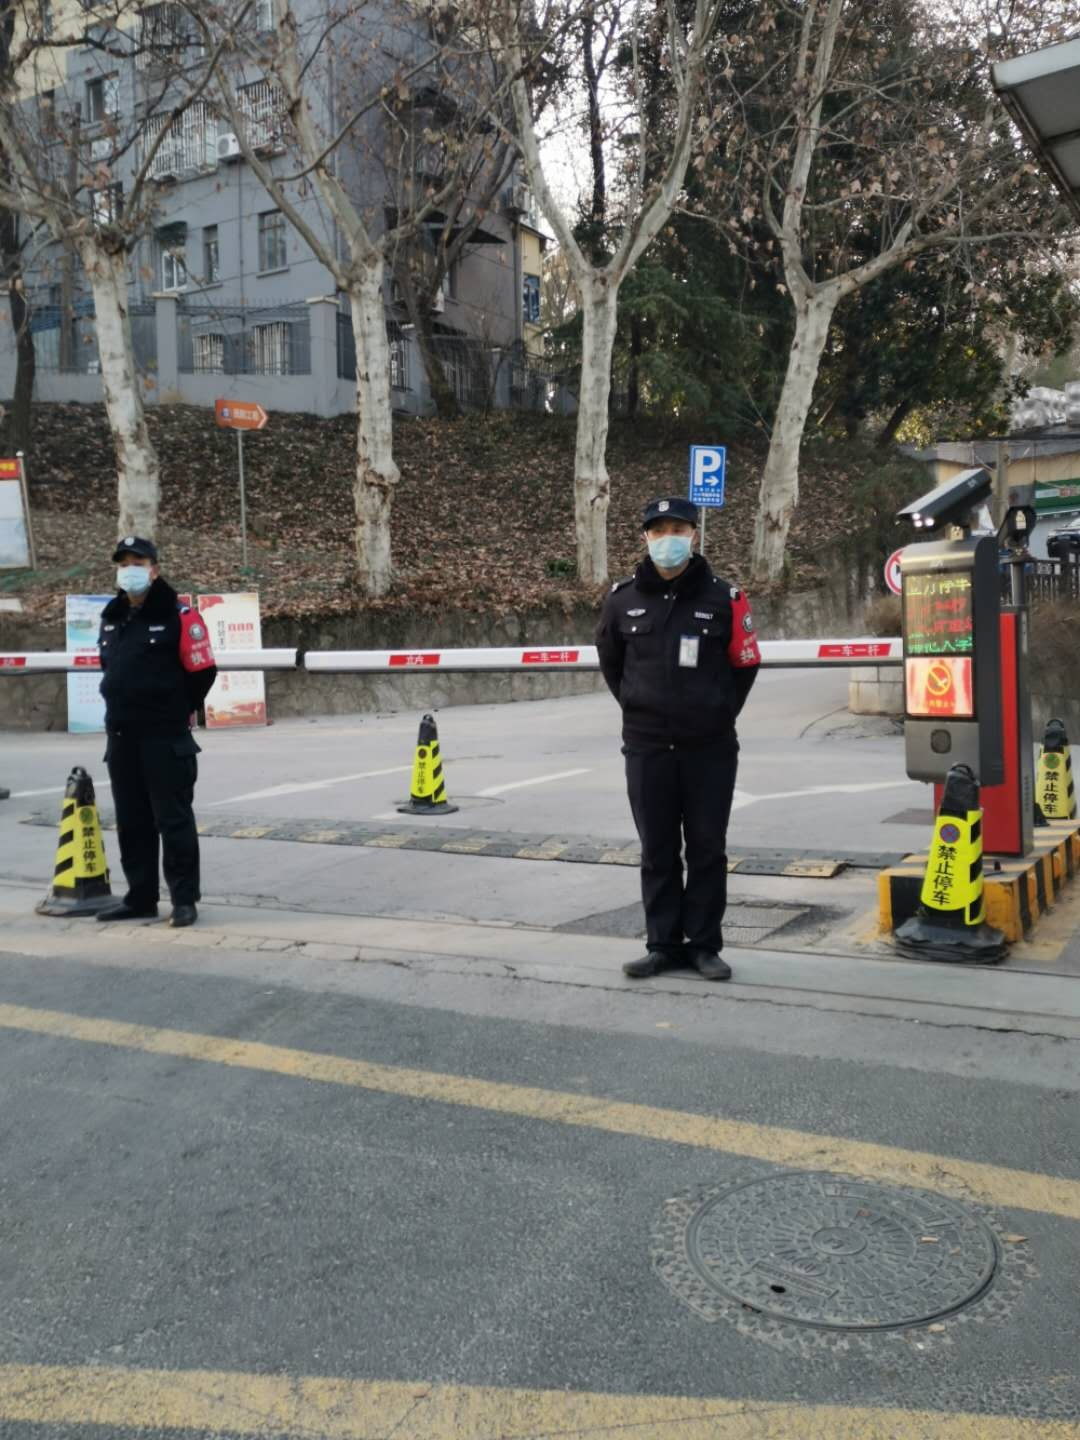correctlyWear: (642, 517, 697, 569), (111, 554, 157, 596)
